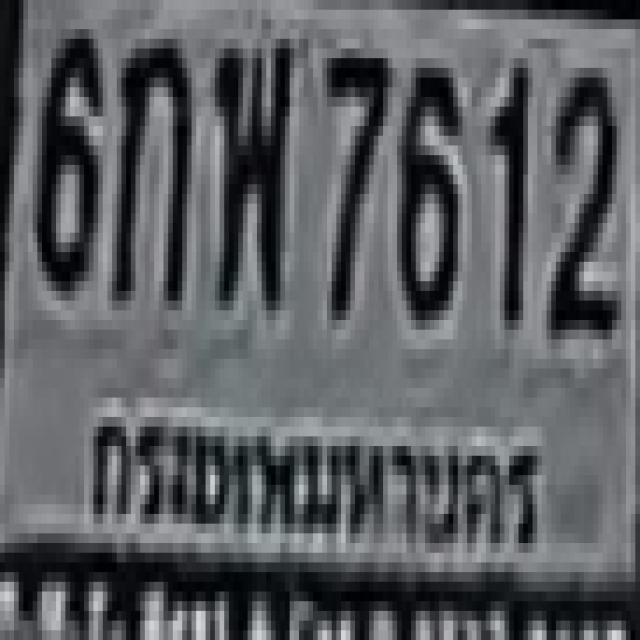-: (107, 29, 187, 301), (210, 29, 290, 301)
1: (484, 53, 526, 315)
2: (547, 58, 612, 330)
6: (33, 20, 98, 282), (392, 58, 458, 310)
7: (322, 39, 388, 310)
BKK: (77, 371, 548, 594)
